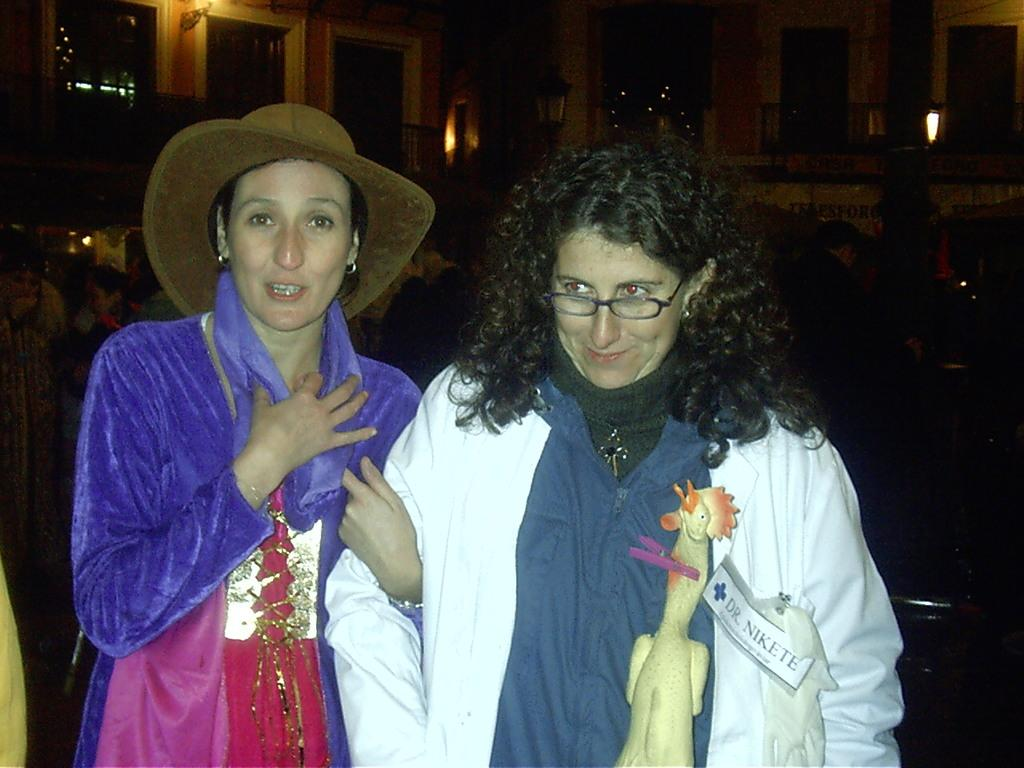Hat: (140, 101, 436, 319)
